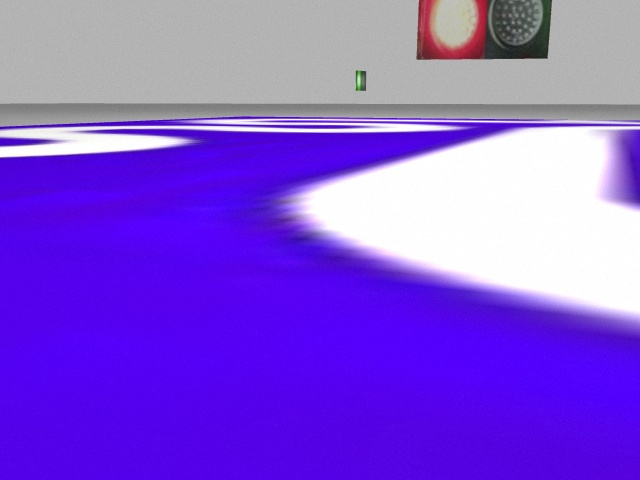red: (418, 1, 487, 57)
